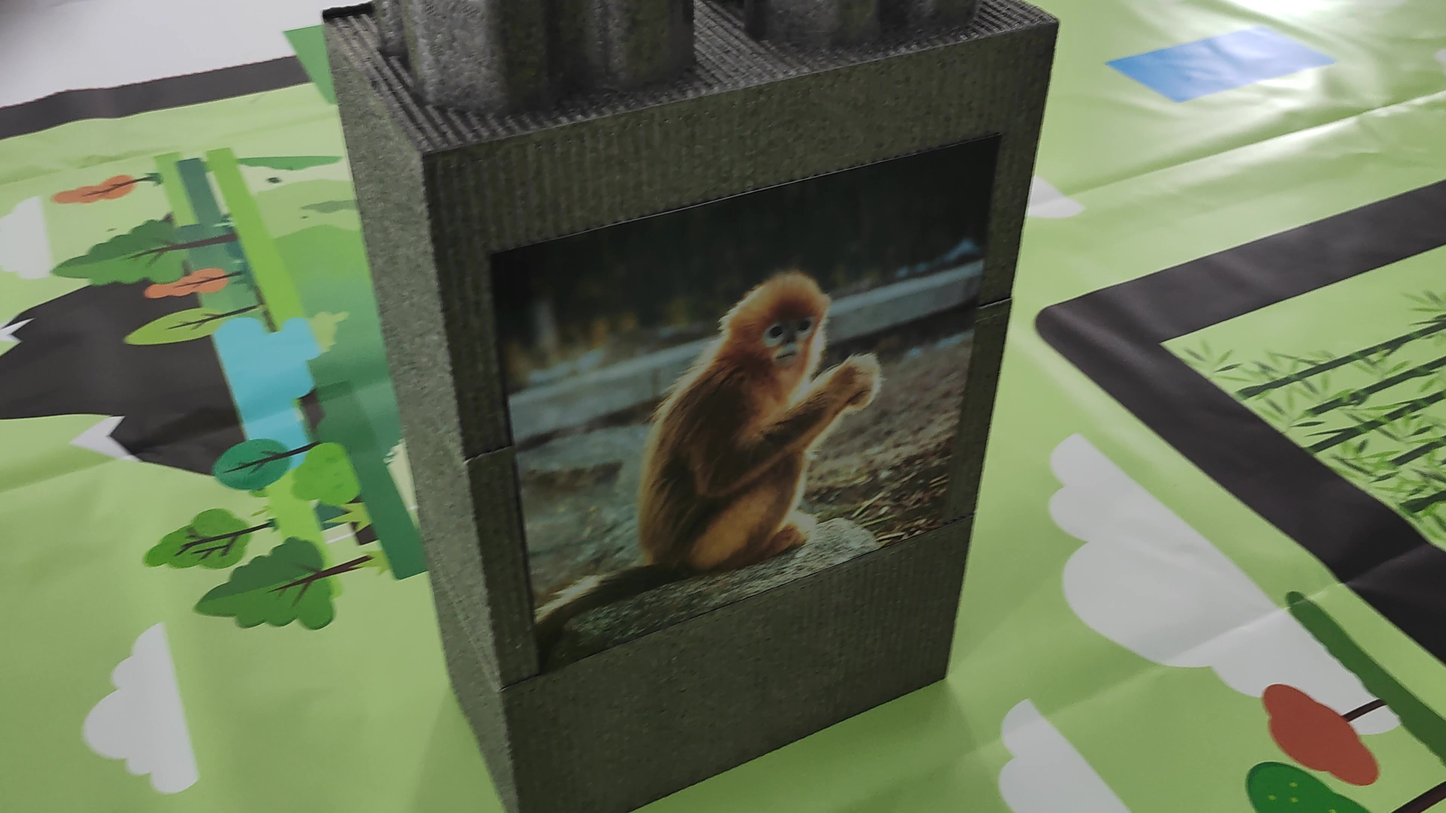monkey: (546, 205, 939, 584)
